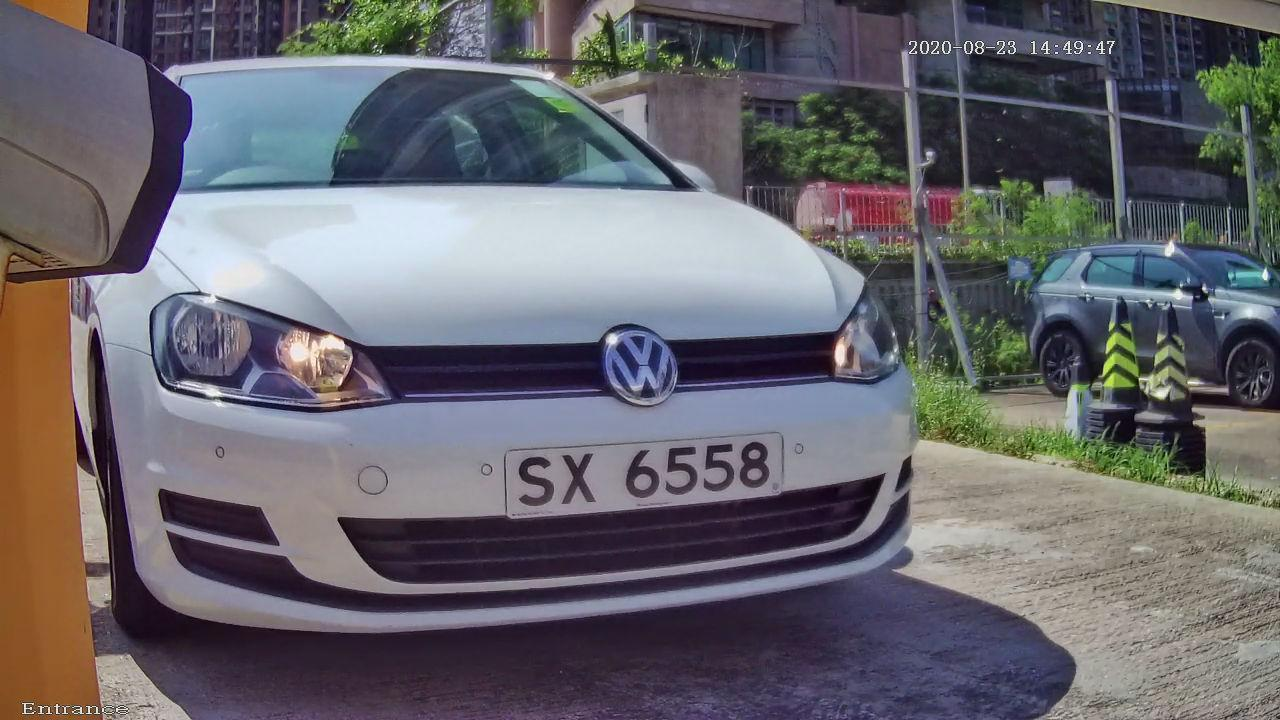Car: (1, 10, 1029, 692)
License Plate: (447, 373, 862, 569)
